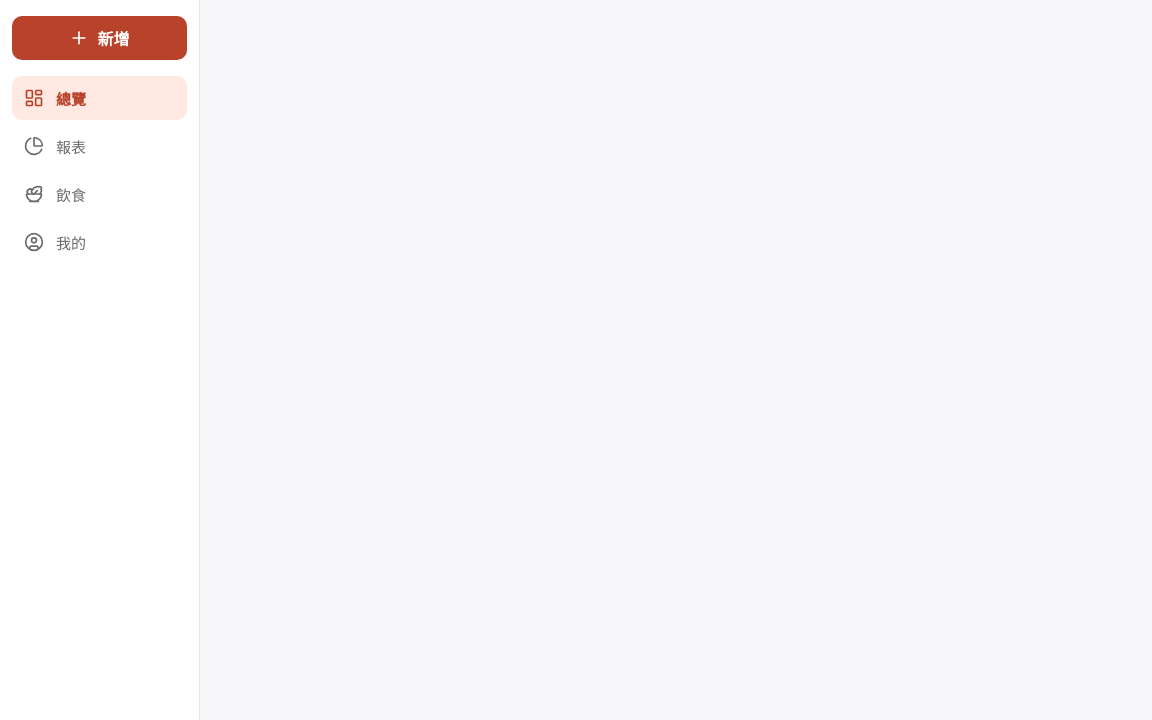
Scenario: SideNav › 「新增紀錄」打開選單（記帳、記一餐），Esc 關掉、焦點回到按鈕
Click the button with aria-label "新增紀錄" at [100, 38], box 12,16 -> 187,60
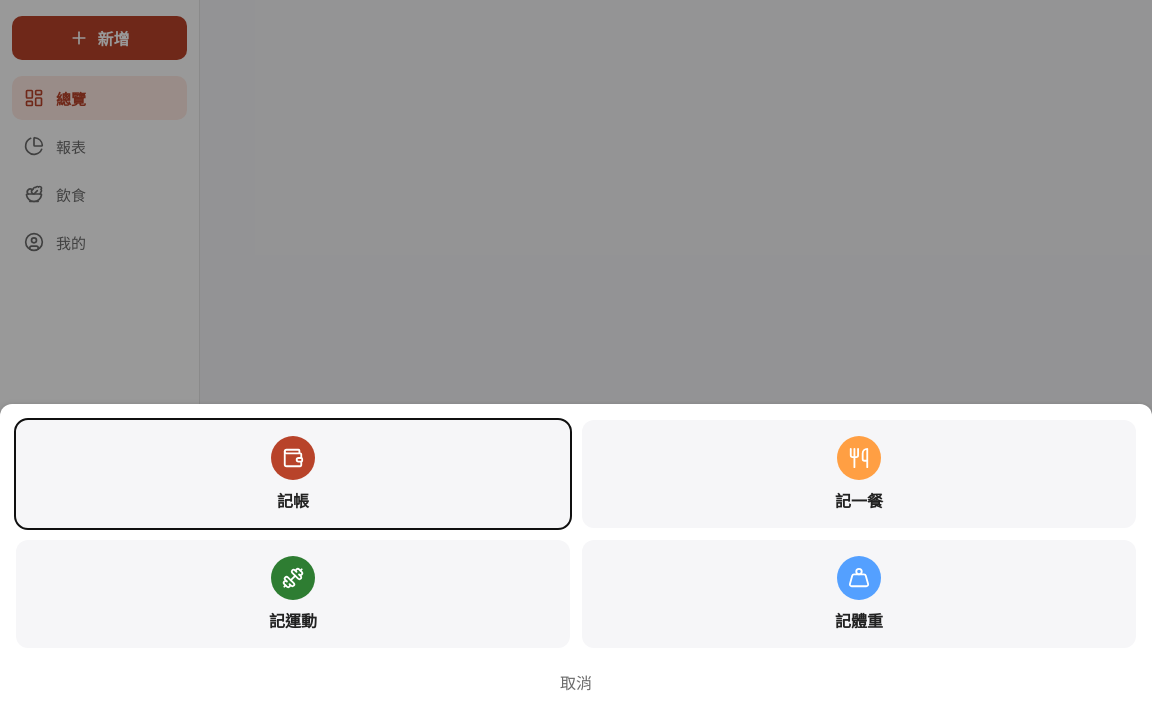
Result: the dialog named "新增紀錄" is shown at 0,404 -> 1151,719
Result: the button with aria-label "新增紀錄" is expanded at 12,16 -> 187,60
Press Escape
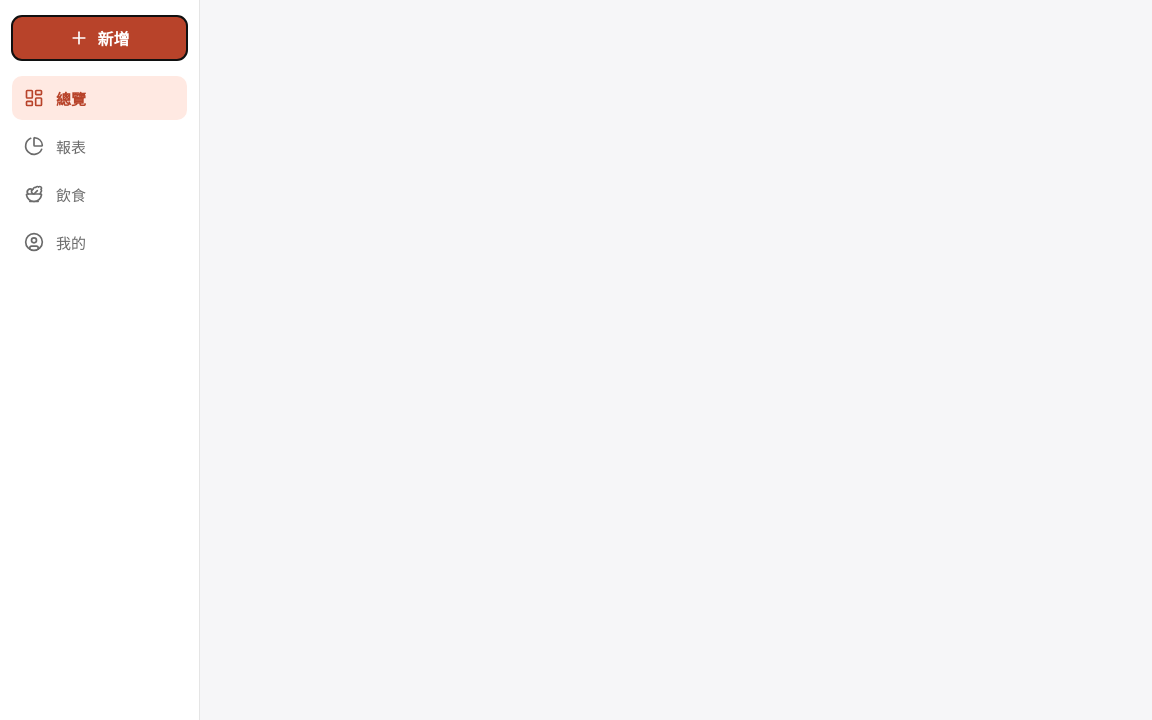
Result: the dialog is gone
